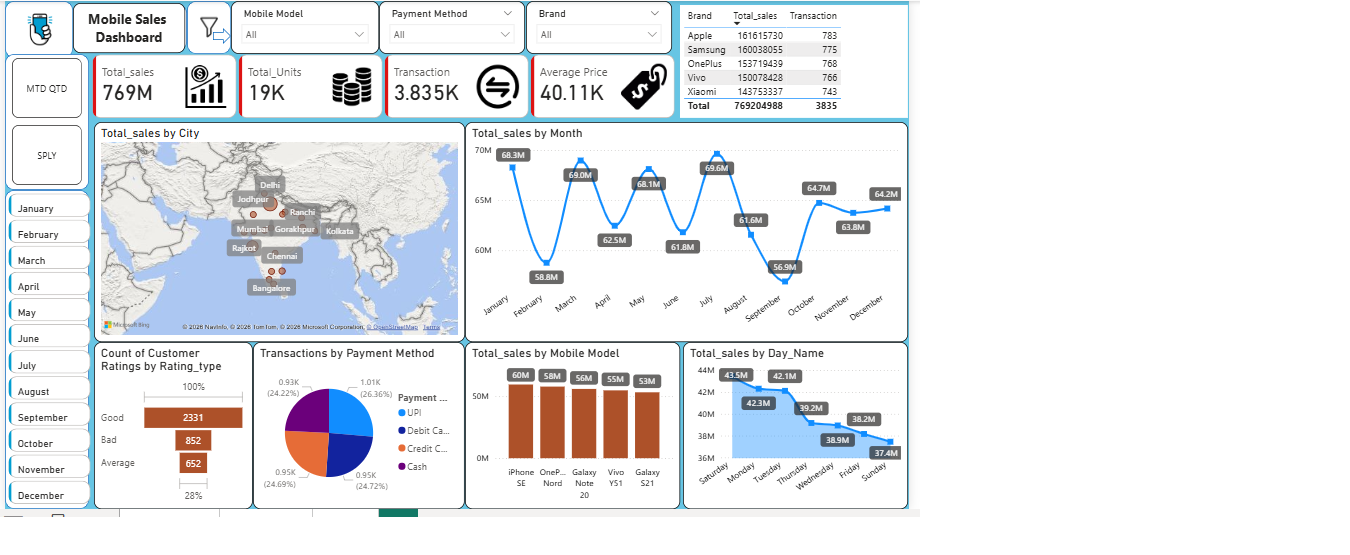

What the dashboard file says about the page in this screenshot:
{"tool":"powerbi","page":{"name":"Dashboard","canvas":[1280,720],"ordinal":0},"visuals":[{"type":"shape","box":[0,0,96.4,80.8],"z":0},{"type":"image","box":[0,5.7,99.2,69.4],"z":1000},{"type":"shape","box":[0,75.1,119.1,192.8],"z":2000},{"type":"shape","box":[0,267.9,119.1,452.1],"z":3000},{"type":"advancedSlicerVisual","fields":{"Values":["Calender.Date.Variation.Date Hierarchy.Month"]},"box":[0,267.9,126.1,452.1],"z":4000},{"type":"cardVisual","fields":{"Data":["DAX.Total_sales","Sum(Mobile_sales.Units Sold)","CountNonNull(Mobile_sales.Transaction ID)","Avg(Mobile_sales.Price Per Unit)"]},"box":[119.1,70.9,837.6,100.6],"z":5000},{"type":"slicer","fields":{"Values":["Mobile_sales.Mobile Model"]},"box":[320.3,0,209.8,75.1],"z":6000},{"type":"slicer","fields":{"Values":["Mobile_sales.Payment Method"]},"box":[530.1,0,206.9,75.1],"z":7000},{"type":"slicer","fields":{"Values":["Mobile_sales.Brand"]},"box":[738.4,0,206.9,75.1],"z":8000},{"type":"shape","box":[258,0,62.4,75.1],"z":9000},{"type":"image","box":[260.8,2.8,56.7,68],"z":10000},{"type":"shape","box":[294.8,38.3,25.5,22.7],"z":11000},{"type":"shape","box":[99.2,4.3,158.7,66.6],"z":12000},{"type":"textbox","box":[96.4,2.8,158.7,70.9],"z":13000},{"type":"map","fields":{"Category":["Mobile_sales.City"],"Size":["DAX.Total_sales"]},"box":[126.1,171.5,525.8,311.8],"z":14000},{"type":"lineChart","fields":{"Category":["Calender.Date.Variation.Date Hierarchy.Month"],"Y":["DAX.Total_sales"]},"box":[652,171.5,627.9,311.8],"z":15000},{"type":"funnel","fields":{"Y":["CountNonNull(Mobile_sales.Customer Ratings)"],"Category":["Mobile_sales.Rating_type"]},"box":[126.1,483.3,225.4,236.7],"z":16000},{"type":"pieChart","fields":{"Category":["Mobile_sales.Payment Method"],"Y":["CountNonNull(Mobile_sales.Transaction ID)"]},"box":[351.5,483.3,300.5,236.7],"z":17000},{"type":"clusteredColumnChart","fields":{"Y":["DAX.Total_sales"],"Category":["Mobile_sales.Mobile Model"]},"box":[652,483.3,304.7,236.7],"z":18000},{"type":"areaChart","fields":{"Y":["DAX.Total_sales"],"Category":["Mobile_sales.Day_Name"]},"box":[960.9,483.3,318.9,236.7],"z":19000},{"type":"tableEx","fields":{"Values":["Mobile_sales.Brand","DAX.Total_sales","CountNonNull(Mobile_sales.Transaction ID)"]},"box":[956.7,5.7,323.1,160.2],"z":20000},{"type":"pageNavigator","box":[9.9,80.8,99.2,180],"z":21000}]}

Visuals, with their boxes on the page's 1280x720 design canvas (x1, y1, x2, y2). These are canvas units, not pixel positions in the 1350x555 screenshot, which may show the page scaled, cropped or inside an application window:
shape: [0,0,96,81]
image: [0,6,99,75]
shape: [0,75,119,268]
shape: [0,268,119,720]
advancedSlicerVisual - Calender.Date.Variation.Date Hierarchy.Month: [0,268,126,720]
cardVisual - DAX.Total_sales x Sum(Mobile_sales.Units Sold): [119,71,957,172]
slicer - Mobile_sales.Mobile Model: [320,0,530,75]
slicer - Mobile_sales.Payment Method: [530,0,737,75]
slicer - Mobile_sales.Brand: [738,0,945,75]
shape: [258,0,320,75]
image: [261,3,318,71]
shape: [295,38,320,61]
shape: [99,4,258,71]
textbox: [96,3,255,74]
map - Mobile_sales.City x DAX.Total_sales: [126,172,652,483]
lineChart - Calender.Date.Variation.Date Hierarchy.Month x DAX.Total_sales: [652,172,1280,483]
funnel - CountNonNull(Mobile_sales.Customer Ratings) x Mobile_sales.Rating_type: [126,483,352,720]
pieChart - Mobile_sales.Payment Method x CountNonNull(Mobile_sales.Transaction ID): [352,483,652,720]
clusteredColumnChart - DAX.Total_sales x Mobile_sales.Mobile Model: [652,483,957,720]
areaChart - DAX.Total_sales x Mobile_sales.Day_Name: [961,483,1280,720]
tableEx - Mobile_sales.Brand x DAX.Total_sales: [957,6,1280,166]
pageNavigator: [10,81,109,261]
